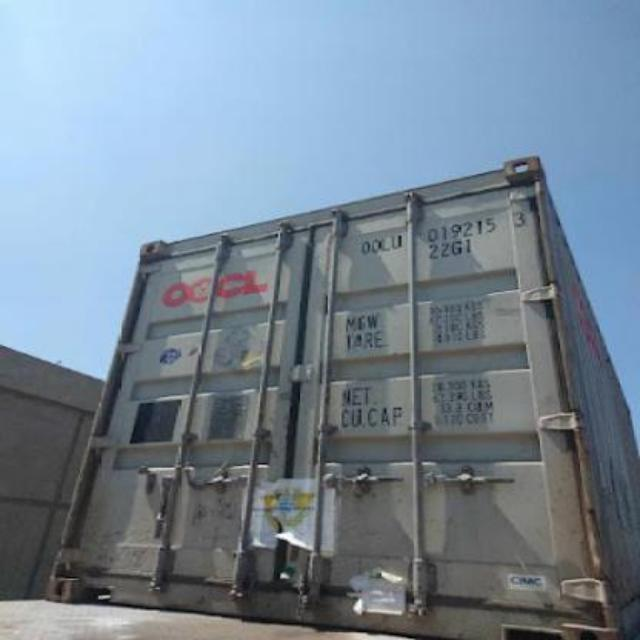0: (426, 226, 439, 242)
1: (440, 224, 450, 240), (476, 218, 482, 234)
2: (462, 220, 476, 236)
3: (514, 210, 528, 226)
5: (484, 218, 498, 232)
9: (450, 224, 462, 236)
L: (378, 236, 392, 250)
O: (360, 240, 372, 254), (370, 238, 382, 252)
U: (391, 234, 404, 250)
